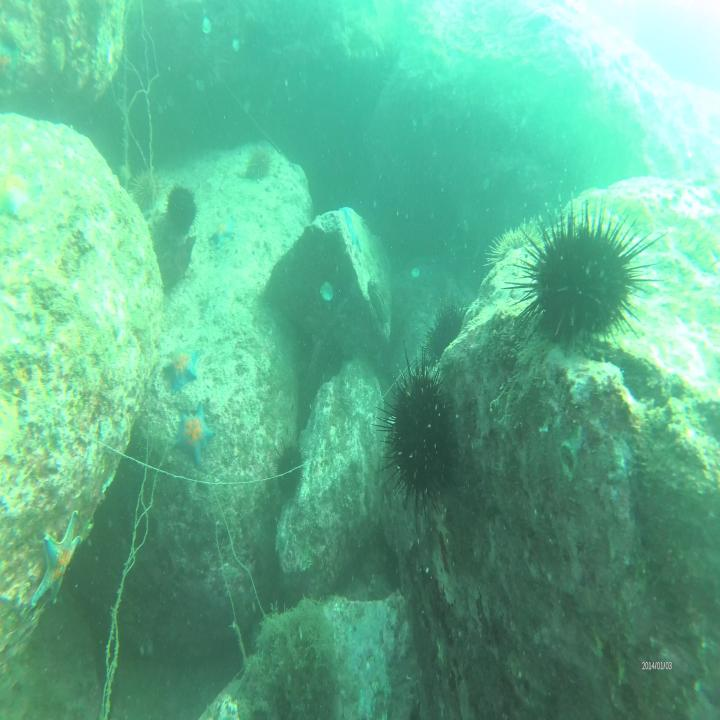echinus: (523, 210, 639, 351), (387, 370, 457, 493), (426, 298, 464, 360), (164, 183, 198, 235), (276, 441, 303, 498), (130, 168, 160, 212), (247, 150, 272, 185)
starfish: (33, 507, 84, 614), (171, 404, 213, 461), (0, 167, 36, 219), (165, 348, 200, 397), (340, 205, 365, 253), (208, 216, 234, 253)
